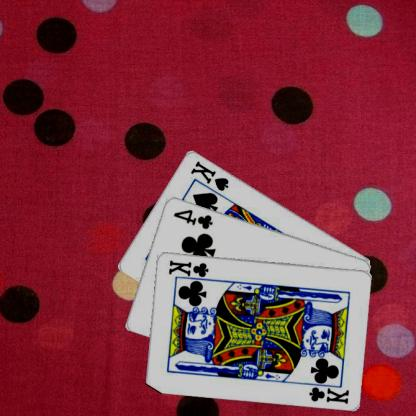4C: (172, 206, 215, 230)
KC: (304, 379, 352, 405), (167, 257, 214, 283)
KS: (190, 158, 232, 192)
